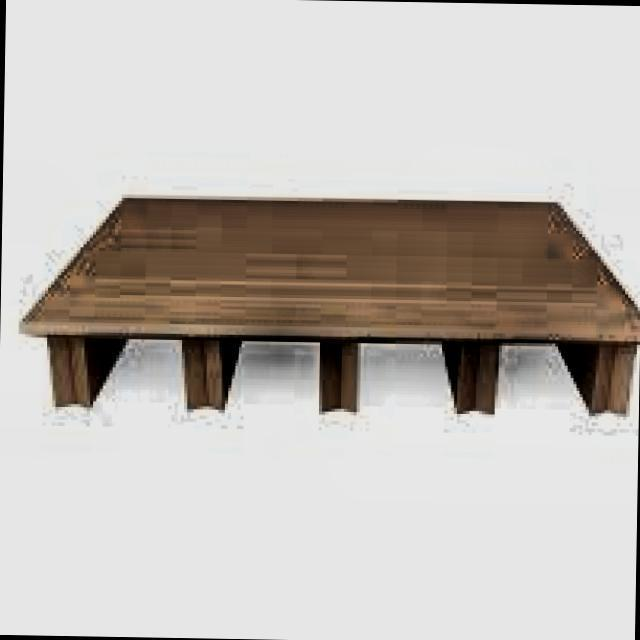cardboard: (17, 186, 640, 419)
